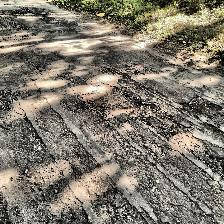pothole: (82, 82, 146, 118), (180, 96, 224, 119)
